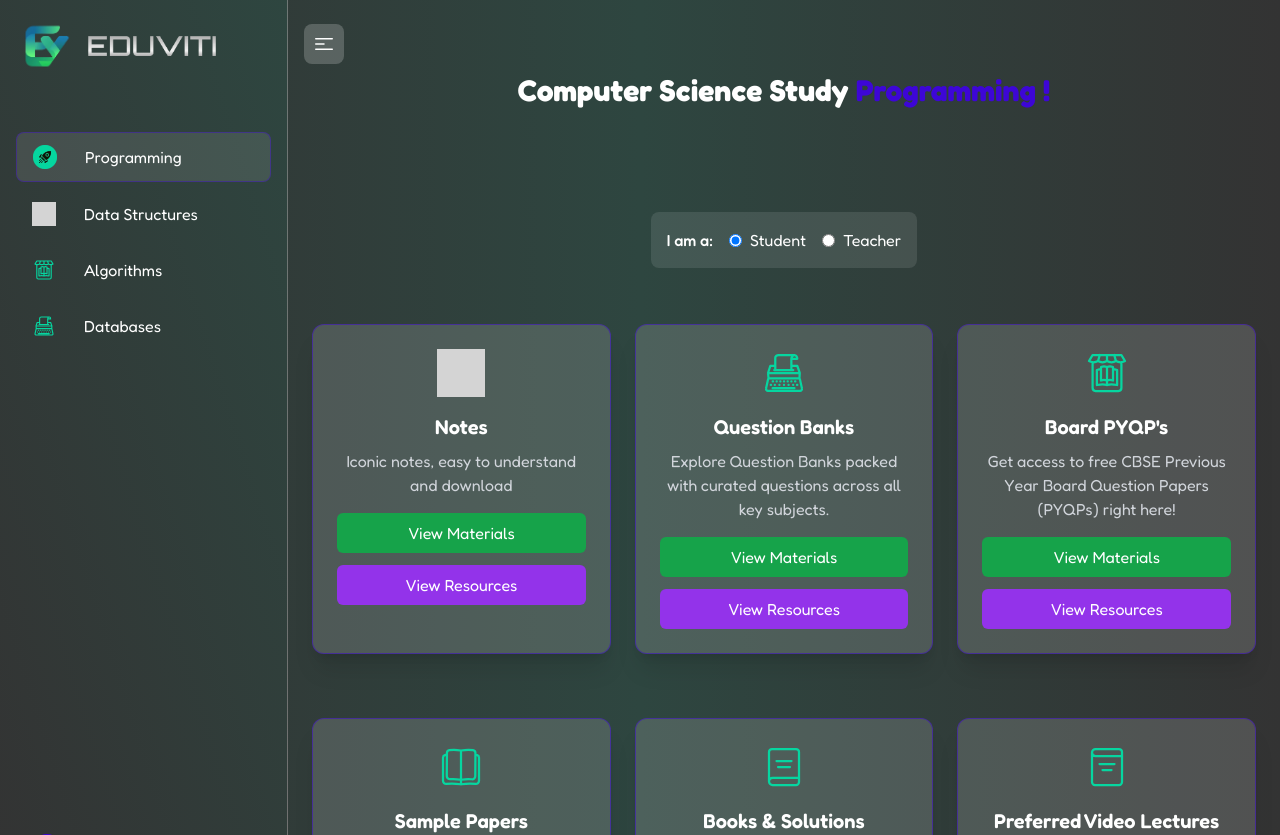
Scenario: Study Resources - Computer Science Section › upload modal opens and closes
Click the radio button labelled "Teacher".
click(828, 240)  # box x1=822 y1=234 x2=835 y2=246
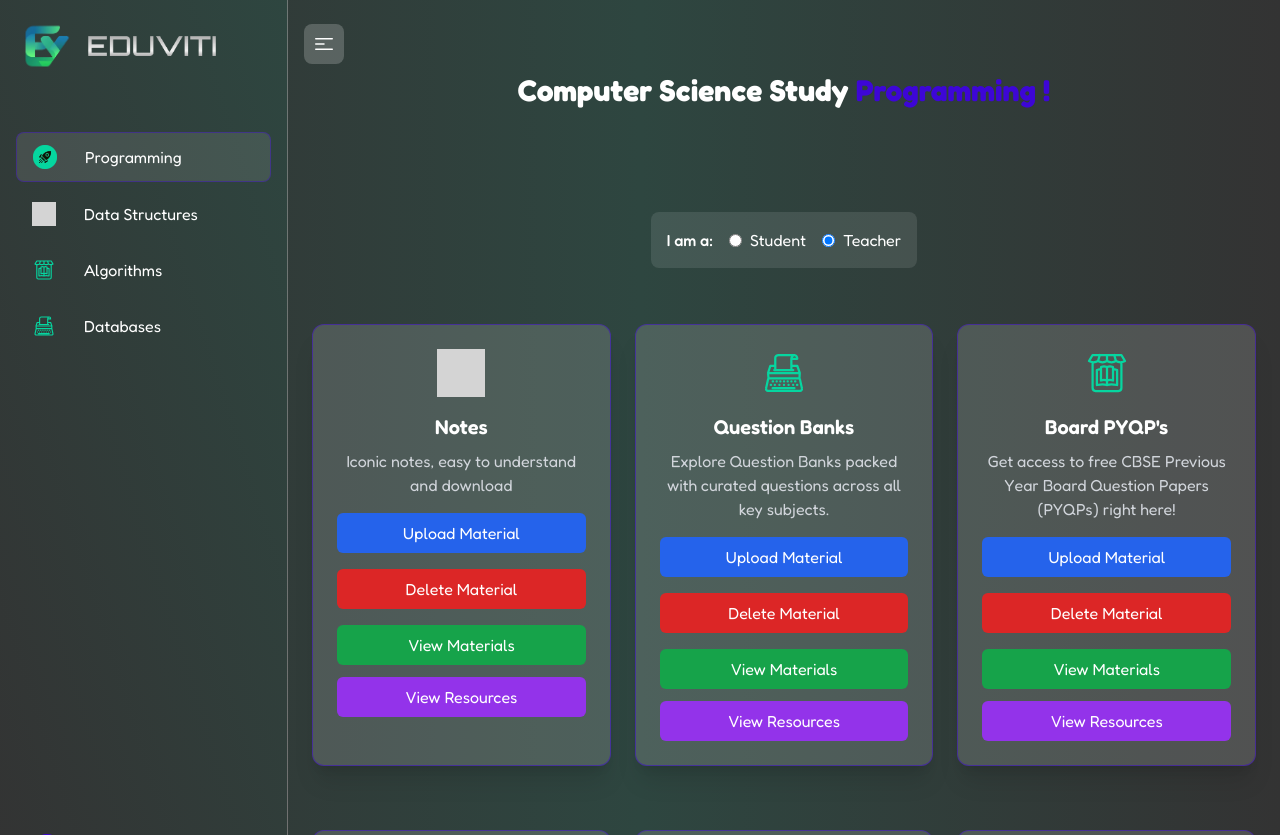
Click the 1st button "Upload Material".
click(461, 533)  # box x1=337 y1=513 x2=586 y2=553
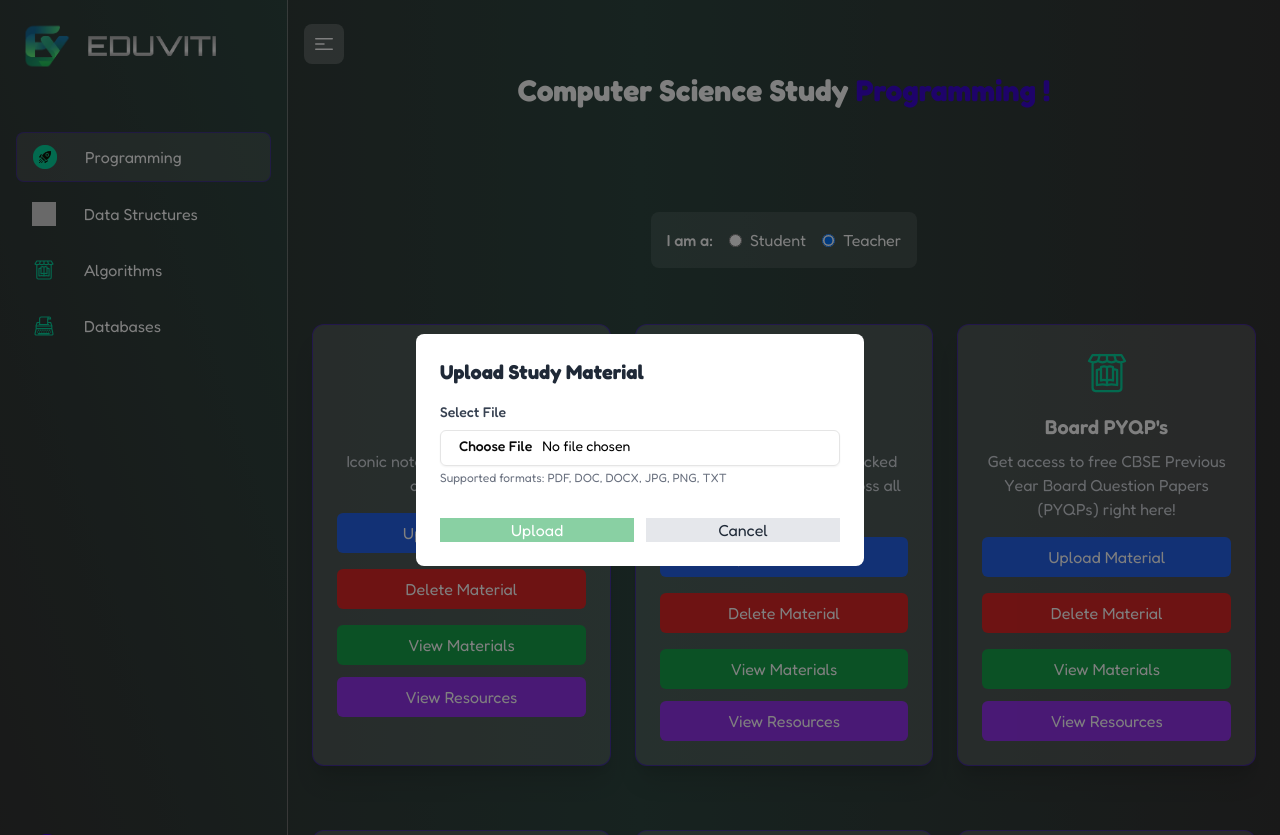
Check: the heading "Upload Study Material" is shown, box x1=440 y1=360 x2=644 y2=384
Click the button "Cancel".
click(743, 530)  # box x1=646 y1=518 x2=840 y2=542
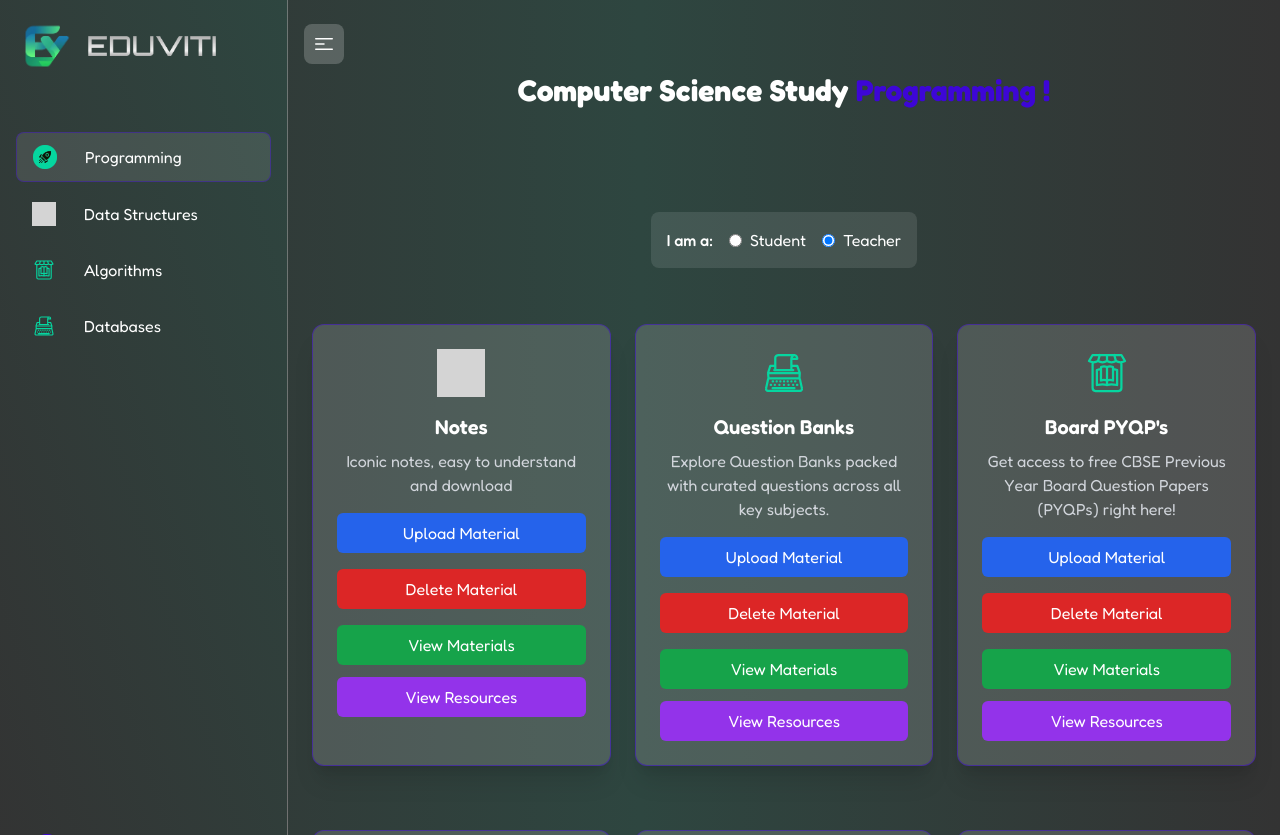
Check: the heading "Upload Study Material" is gone
